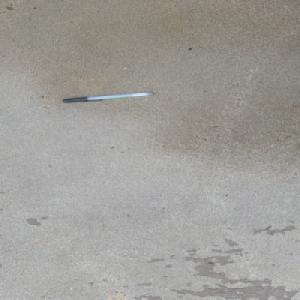Pen: (61, 91, 155, 104)
